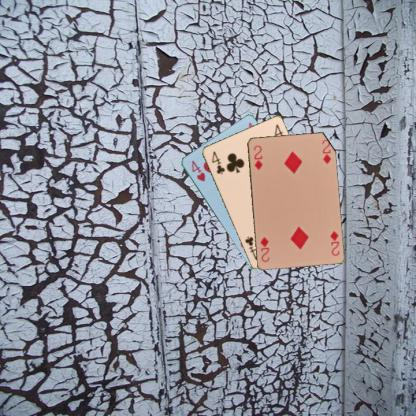2d: (327, 228, 340, 257), (251, 143, 264, 171)
4c: (208, 148, 226, 176)
4h: (189, 158, 206, 182)
